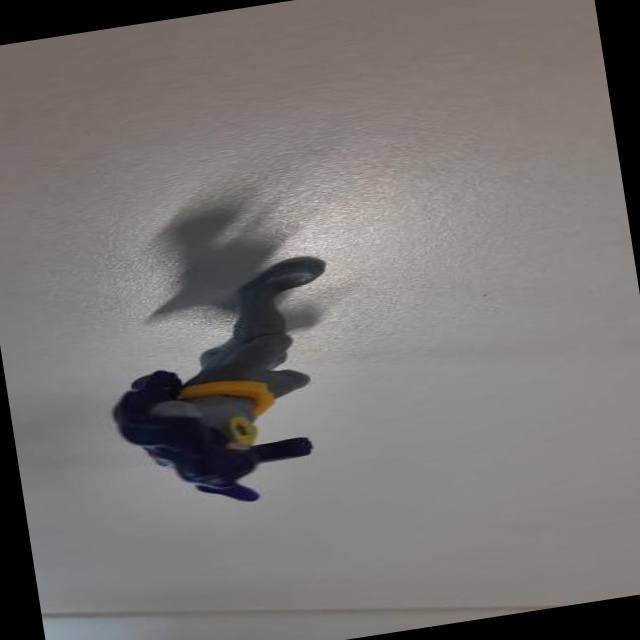Batman: (97, 246, 376, 523)
